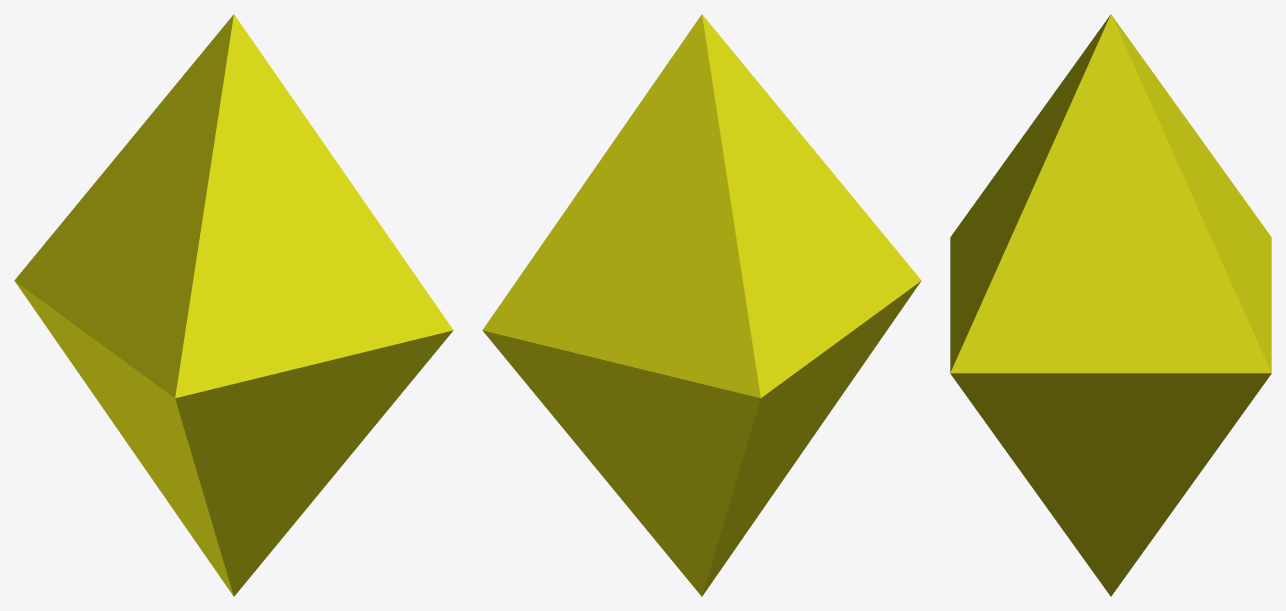
The model's file is Prisma.fbx.
The picture shows the model from 3 angles, left to right: view 1: azimuth 30°, elevation 25°; view 2: azimuth 150°, elevation 25°; view 3: azimuth 270°, elevation 25°; orthographic projection.
Visible parts, largest first — view 1: Prisma; view 2: Prisma; view 3: Prisma.
Part boxes in pixels (<box>): Prisma: <box>14,14,453,596</box>; Prisma: <box>482,14,921,596</box>; Prisma: <box>950,14,1271,596</box>.
Bounding box in the file's own units: 200 × 400 × 200.
